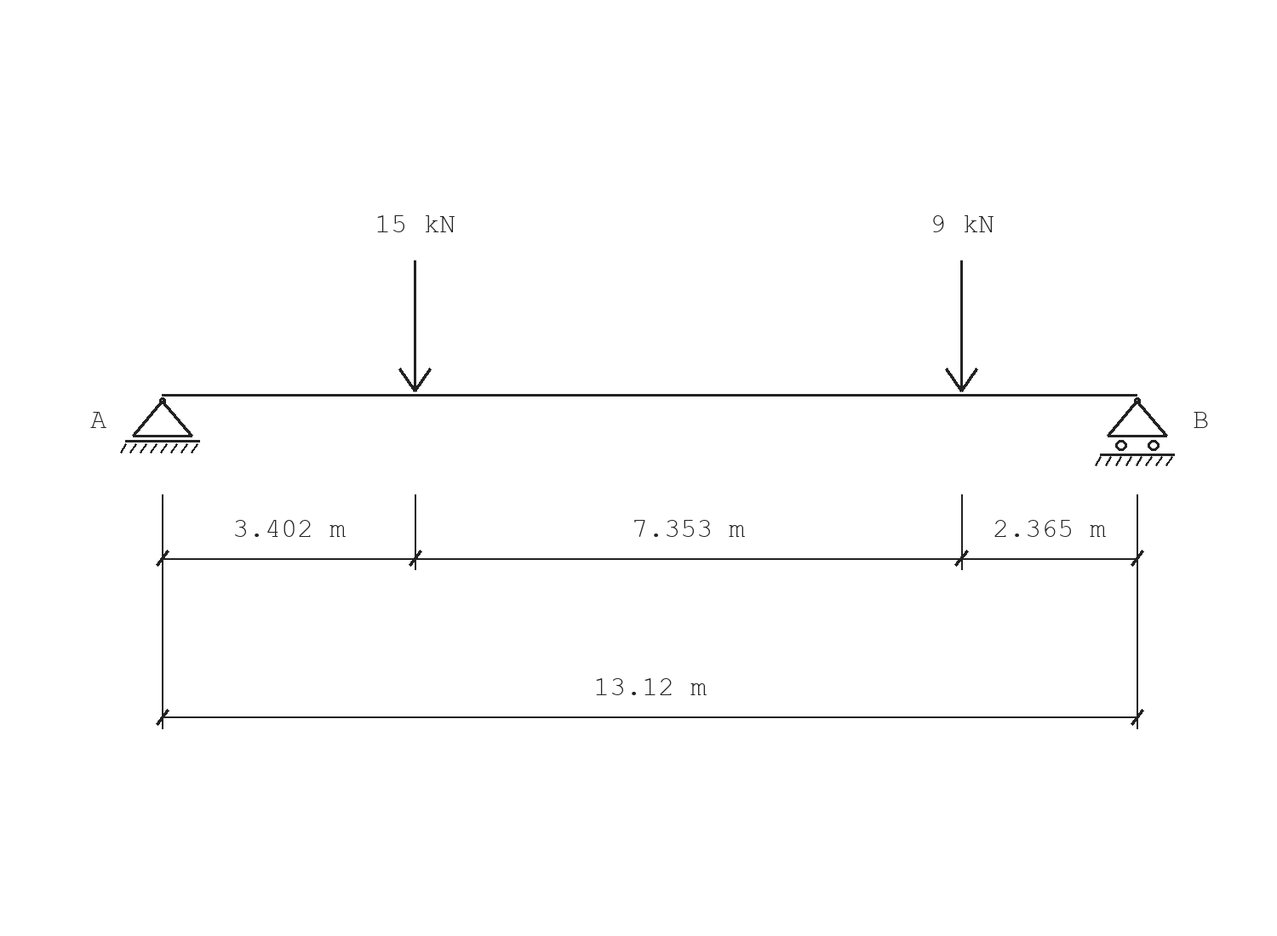pin_support: (120, 397, 200, 454)
point_load: (398, 260, 432, 392), (945, 260, 978, 392)
roller_support: (1095, 397, 1175, 466)
